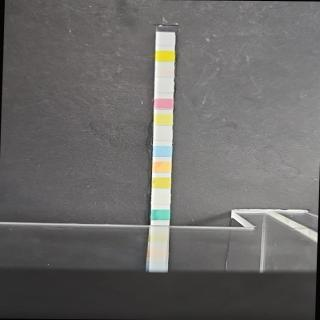mark: (152, 162, 172, 174), (151, 192, 171, 204), (152, 177, 170, 190), (155, 66, 175, 77), (156, 35, 175, 46), (155, 114, 172, 126), (155, 82, 175, 92), (154, 99, 174, 109), (156, 51, 174, 62), (154, 130, 172, 141), (151, 210, 170, 220), (154, 146, 172, 156)
